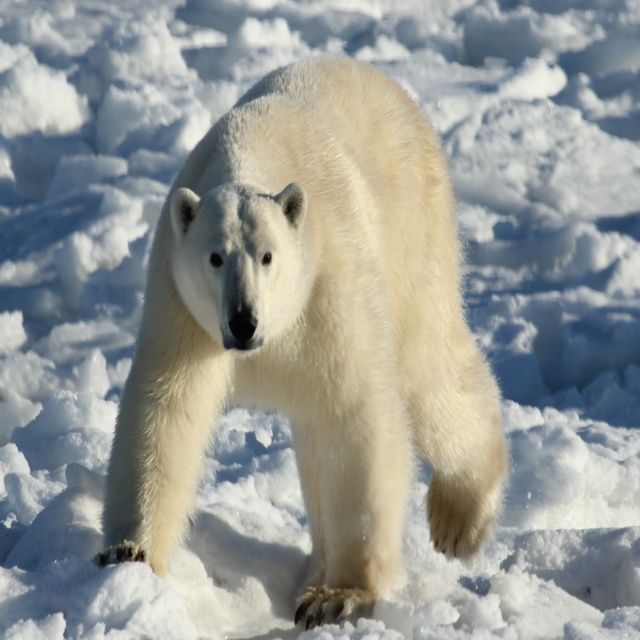Polar bear: (91, 51, 510, 631)
